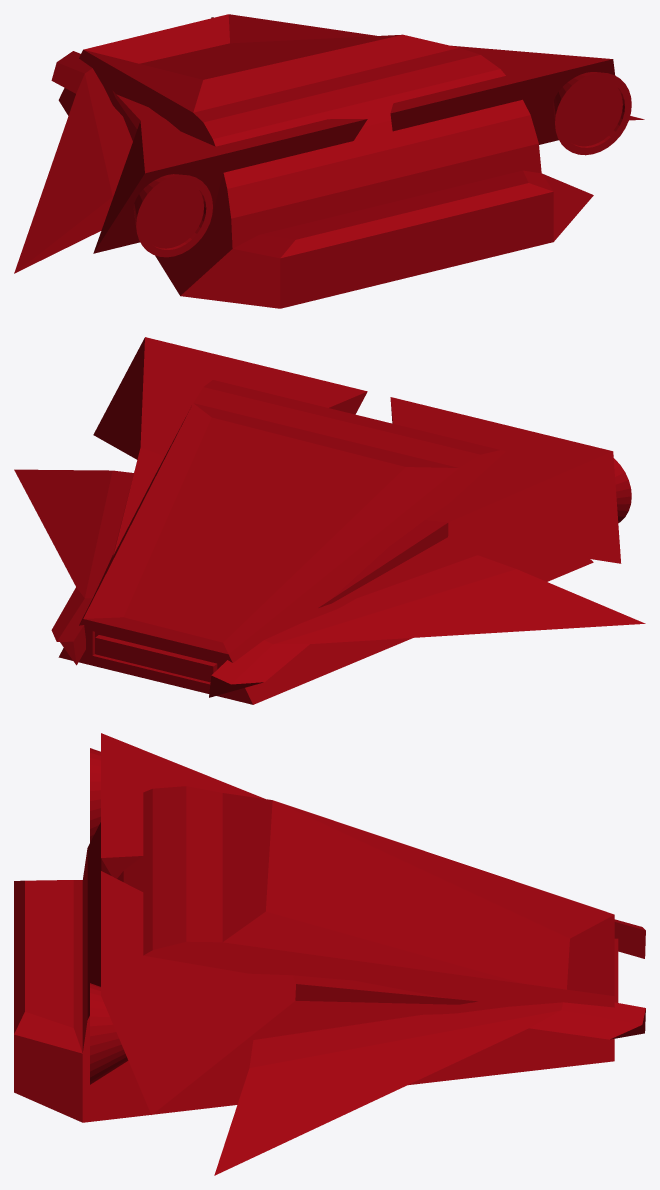
3 views of the same model, one above another, from view 1: azimuth 30°, elevation 25°; view 2: azimuth 150°, elevation 25°; view 3: azimuth 270°, elevation 25° (orthographic). The views are drawn at different scales.
Parts seen in each view (by area): view 1: Cylinder.001; view 2: Cylinder.001; view 3: Cylinder.001.
Part boxes in pixels (x1,y1,x2,y2): Cylinder.001: (14,14,644,308); Cylinder.001: (14,337,645,704); Cylinder.001: (14,733,645,1175).
Size of the model in its own units: 409 by 85.32 by 308.
